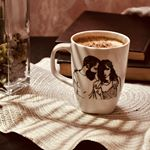cups: (46, 26, 134, 119)
